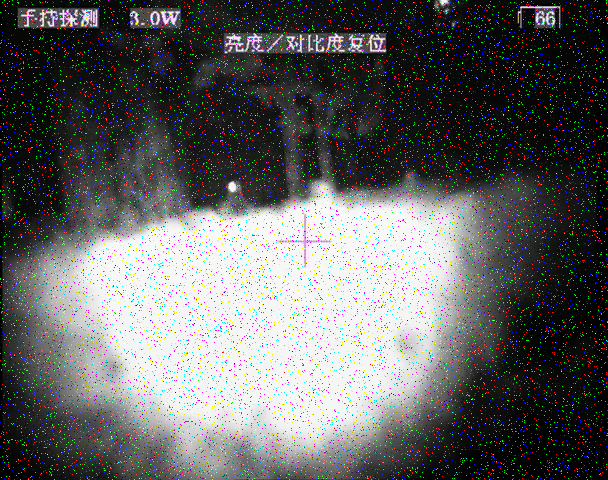my: (227, 180, 238, 192)
